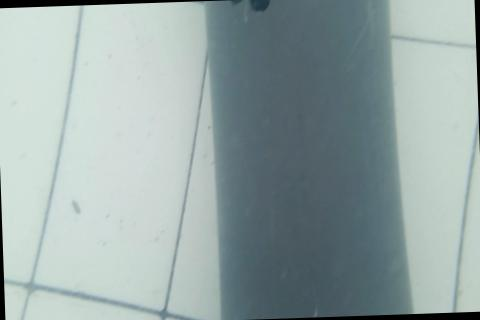kebocoran: (229, 0, 272, 14)
